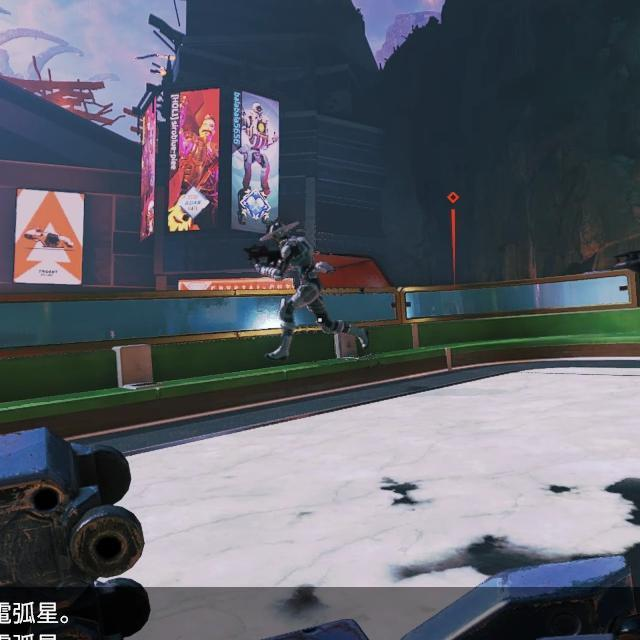avatar: (266, 221, 323, 364)
